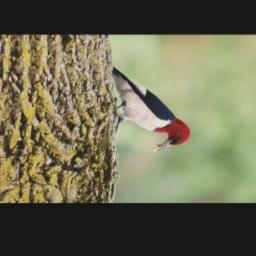Woodpecker: (112, 68, 192, 151)
